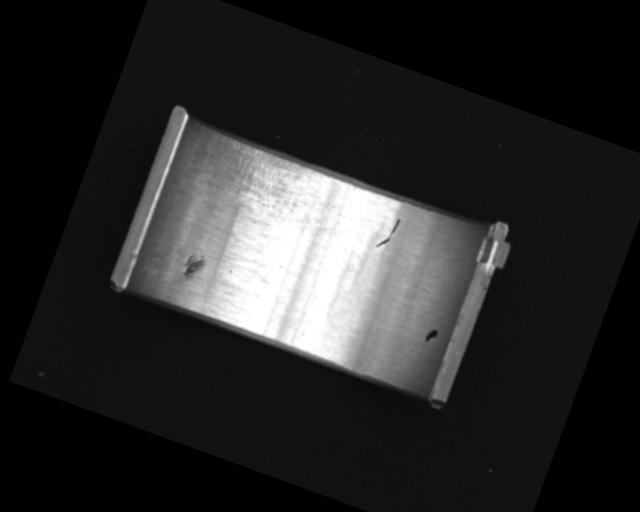blot: (423, 325, 440, 345)
bruise: (179, 249, 209, 283)
nick: (376, 213, 402, 251)
scratch: (211, 140, 350, 245)
